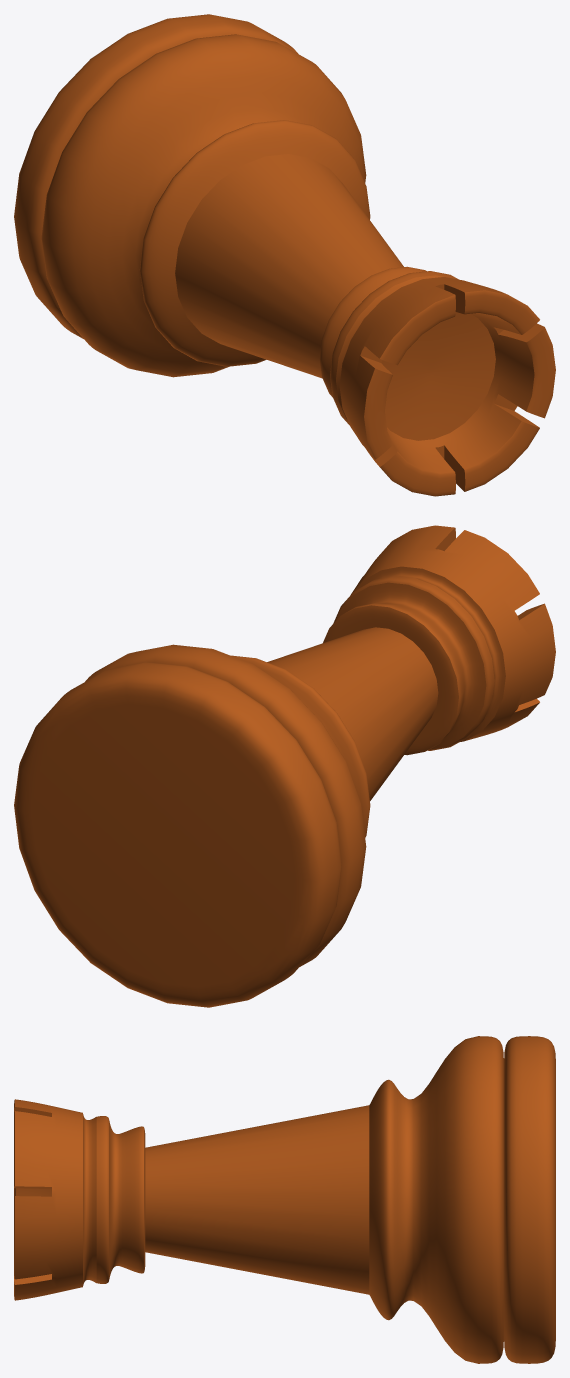
File: rook.obj
The picture shows the model from 3 angles, top to bottom: view 1: azimuth 30°, elevation 25°; view 2: azimuth 150°, elevation 25°; view 3: azimuth 270°, elevation 25°; orthographic projection. The views are drawn at different scales.
Visible parts, largest first — view 1: ladya02; view 2: ladya02; view 3: ladya02.
Boxes of the visible parts, x1=… form: ladya02: x1=14, y1=14, x2=555, y2=496; ladya02: x1=14, y1=525, x2=555, y2=1007; ladya02: x1=14, y1=1036, x2=555, y2=1363.
Size of the model in its own units: 32.44 by 32.44 by 53.44.
